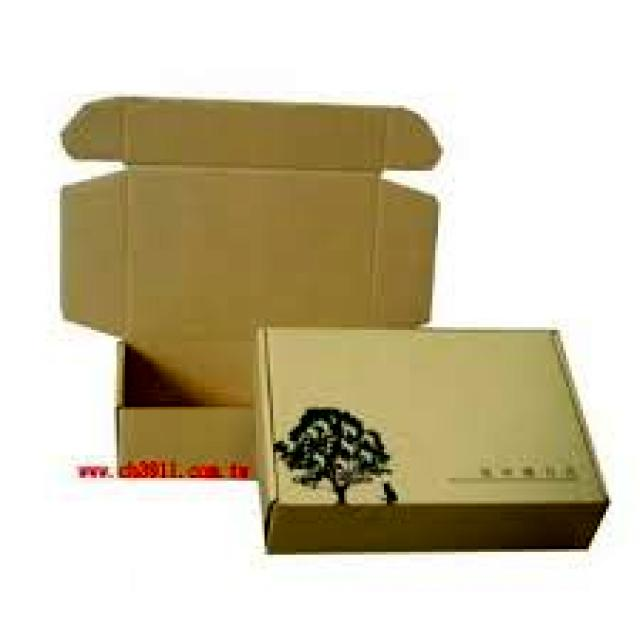Cardboard: (54, 94, 443, 476), (250, 323, 610, 556)
